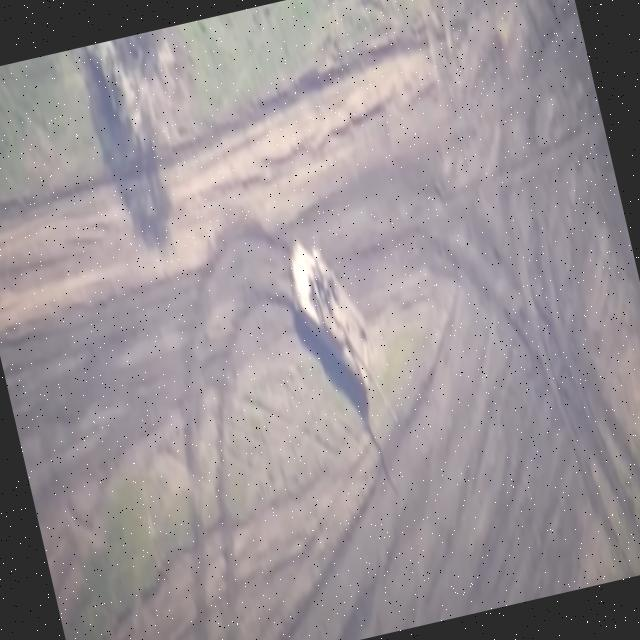MBT: (279, 221, 401, 441)
